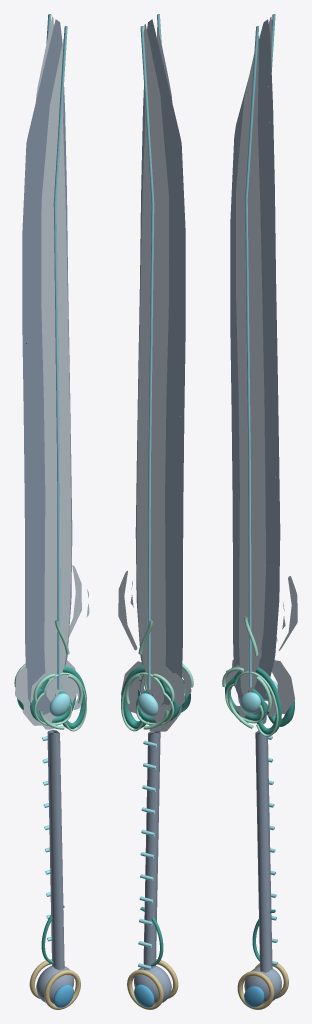
Rendered from glint_of_clouds.obj.
The picture shows the model from 3 angles, left to right: view 1: azimuth 30°, elevation 25°; view 2: azimuth 150°, elevation 25°; view 3: azimuth 330°, elevation 25°; orthographic projection.
Visible parts, largest first — view 1: glint_of_clouds; view 2: glint_of_clouds; view 3: glint_of_clouds.
Boxes of the visible parts, bbox=[...] form: glint_of_clouds: bbox=[14, 14, 89, 1009]; glint_of_clouds: bbox=[118, 14, 193, 1009]; glint_of_clouds: bbox=[222, 14, 297, 1009].
Bounding box in the file's own units: 0.1074 × 1.56 × 0.0701.
